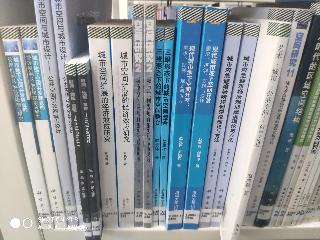book-spine: (237, 8, 313, 228), (250, 4, 320, 230), (228, 23, 290, 240), (177, 7, 228, 230), (206, 23, 260, 227), (1, 26, 52, 230), (160, 6, 203, 230), (35, 0, 77, 227), (20, 25, 66, 230), (197, 23, 242, 229), (52, 1, 87, 225), (89, 26, 118, 228), (111, 27, 137, 227), (65, 64, 94, 239), (77, 65, 99, 240), (157, 28, 174, 225), (141, 5, 155, 228), (151, 28, 163, 226), (133, 5, 143, 226), (276, 9, 293, 23)
